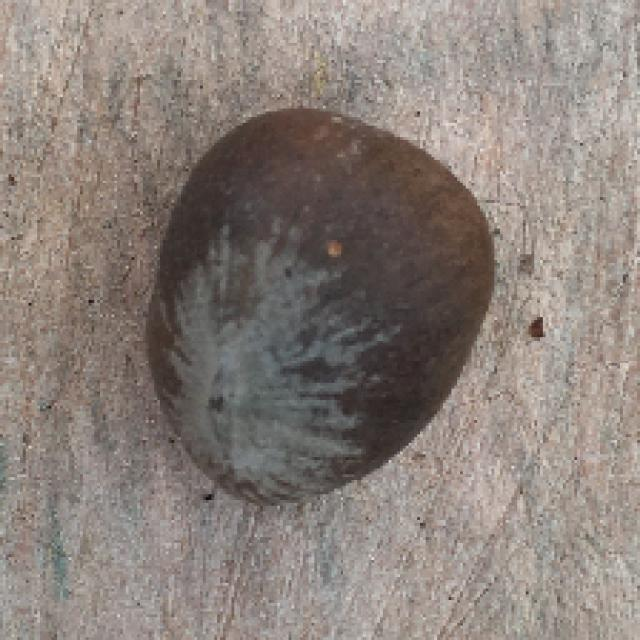damagedHazelnut: (132, 89, 500, 521)
